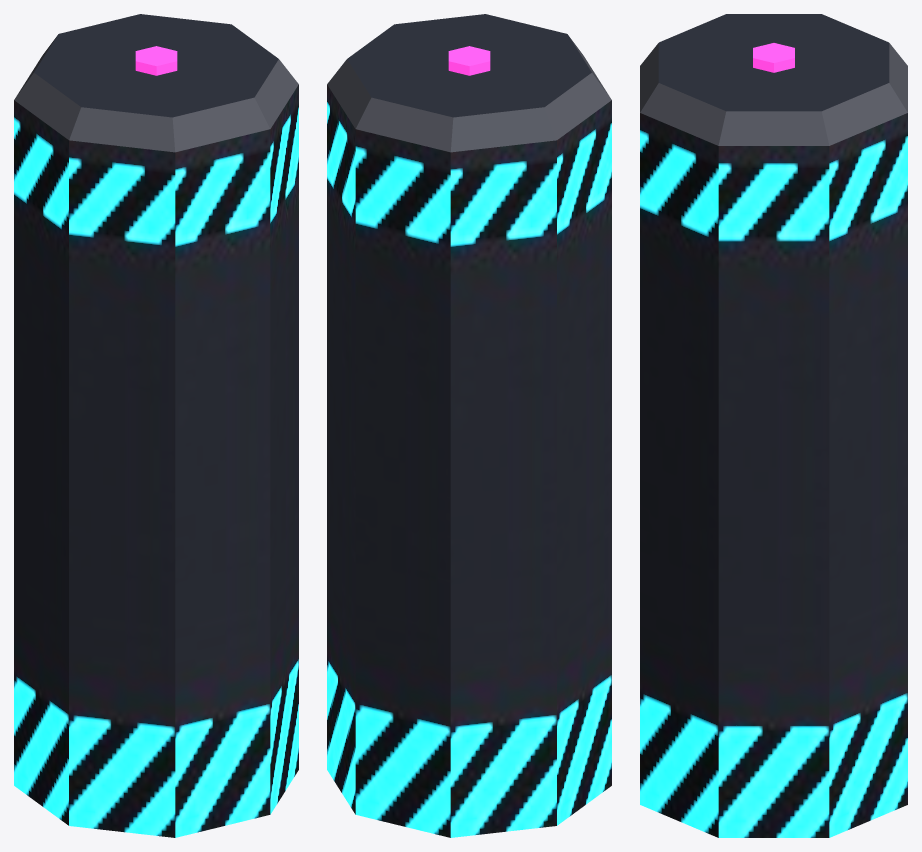
Rendered from pillar.glb.
The picture shows the model from 3 angles, left to right: view 1: azimuth 30°, elevation 25°; view 2: azimuth 150°, elevation 25°; view 3: azimuth 270°, elevation 25°; orthographic projection.
Visible parts, largest first — view 1: pillar; view 2: pillar; view 3: pillar.
Boxes of the visible parts, <box> form: pillar: <box>14,14,298,837</box>; pillar: <box>327,14,611,837</box>; pillar: <box>640,14,907,837</box>.
Bounding box in the file's own units: 2 × 6 × 2.
1 material, 1 textured.
